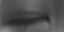LeftEyeFatigue: (3, 4, 56, 32)
